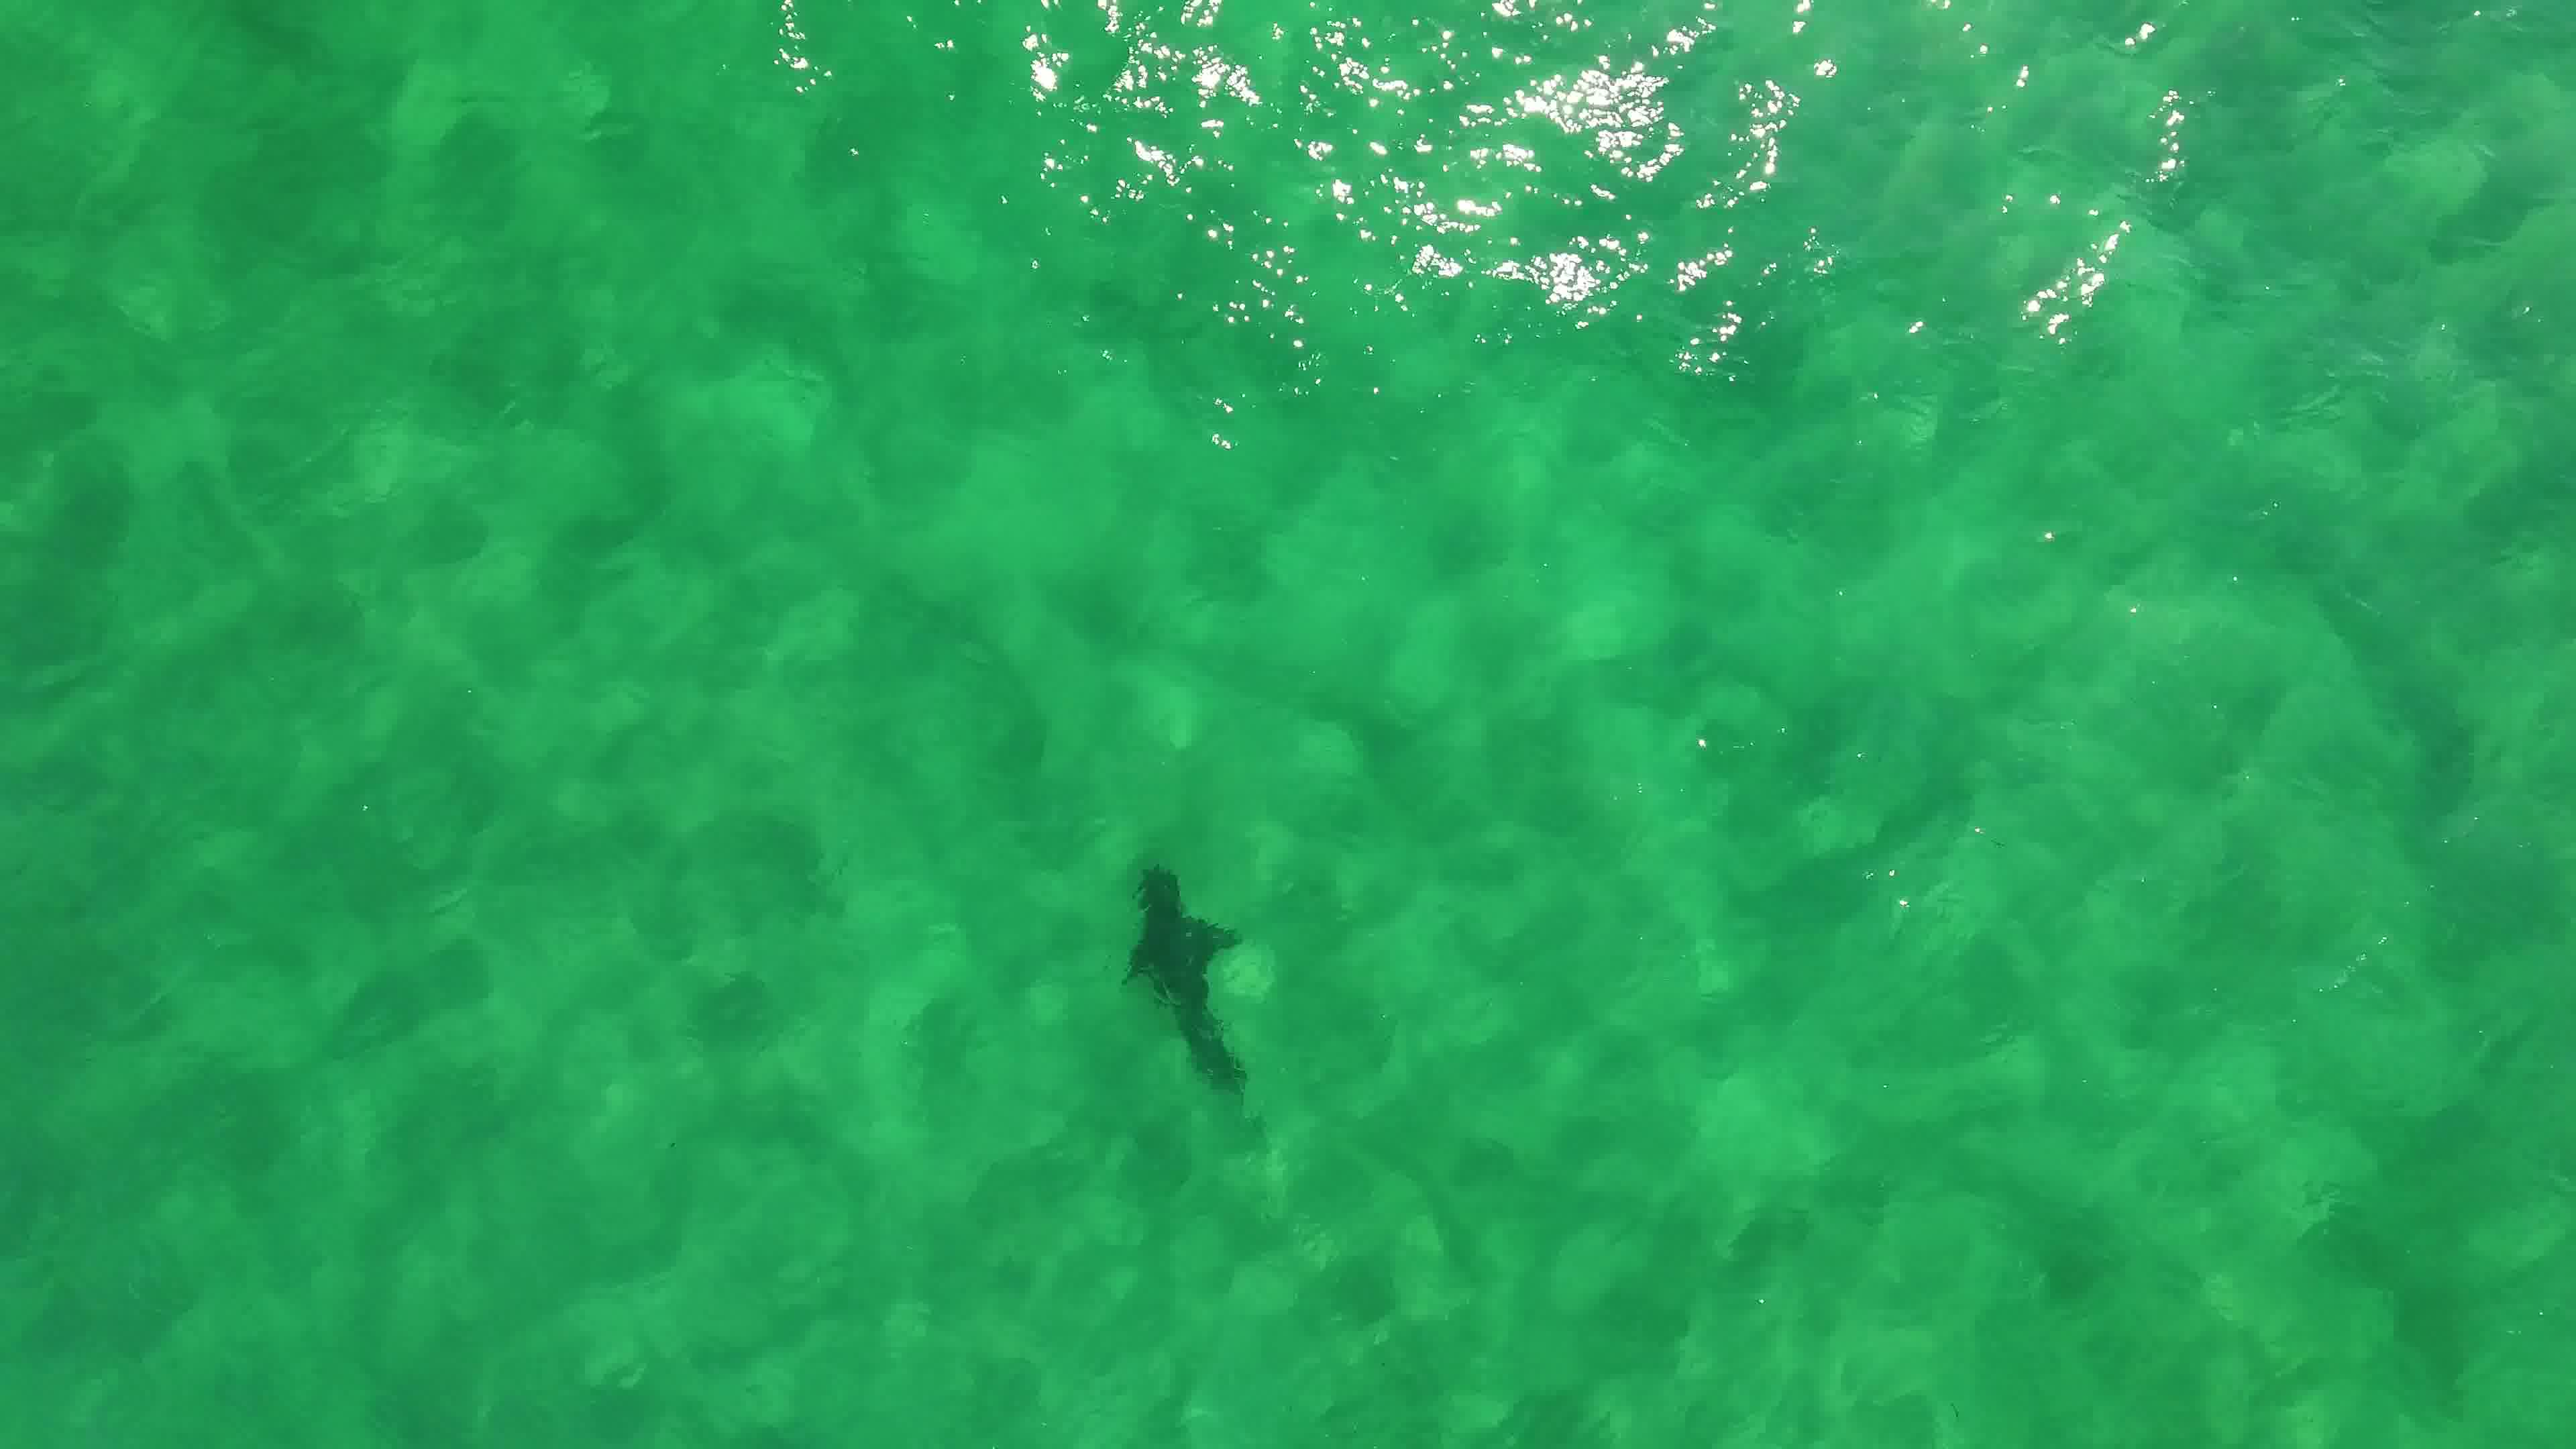shark: (1102, 856, 1258, 1102)
